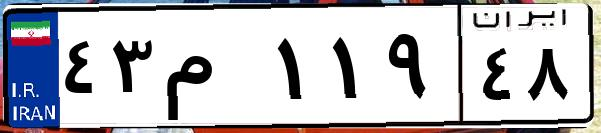1: (270, 28, 330, 110), (330, 28, 385, 110)
3: (110, 28, 158, 98)
4: (57, 26, 110, 100), (475, 38, 525, 113)
8: (525, 38, 570, 115)
9: (385, 28, 445, 110)
م: (158, 20, 270, 120)
